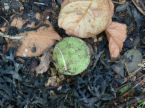tennis ball: (52, 36, 91, 75)
